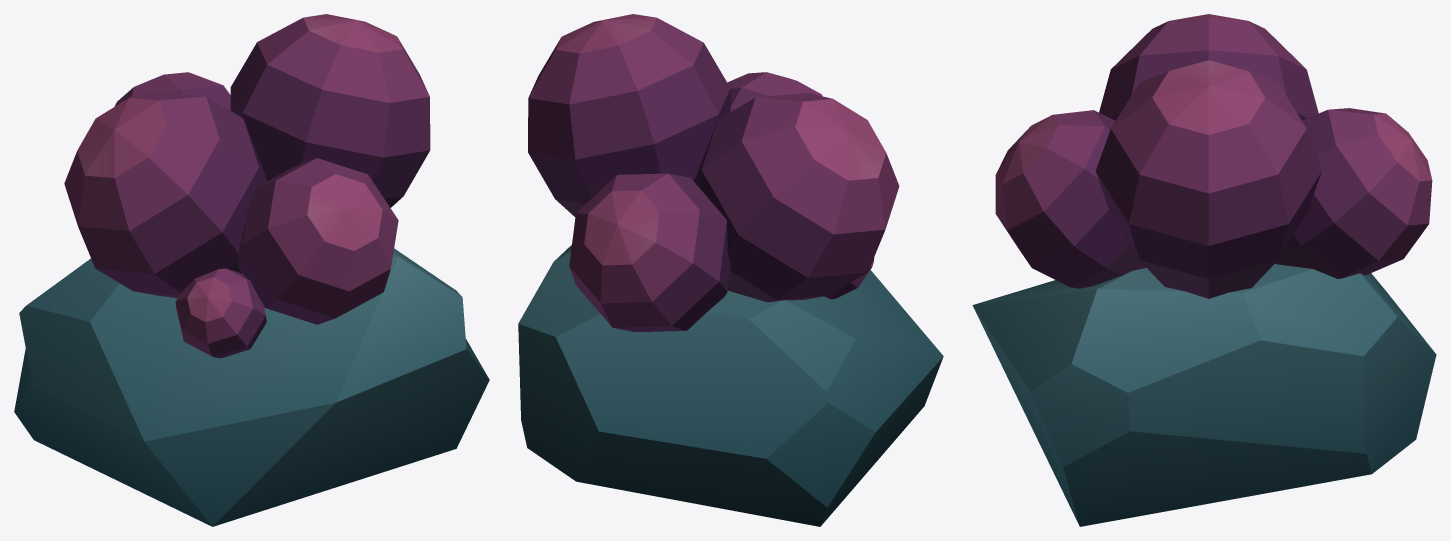
File: coral_spheres_pink_2.fbx
3 views of the same model, side by side, from view 1: azimuth 30°, elevation 25°; view 2: azimuth 150°, elevation 25°; view 3: azimuth 270°, elevation 25° (orthographic). The views are drawn at different scales.
Visible parts, largest first — view 1: coral_spheres_pink_2; view 2: coral_spheres_pink_2; view 3: coral_spheres_pink_2.
Boxes of the visible parts, x1,y1,x2,y2 form: coral_spheres_pink_2: (14,14,489,526); coral_spheres_pink_2: (518,14,943,526); coral_spheres_pink_2: (972,14,1436,526).
Bounding box in the file's own units: 0.5333 × 0.5578 × 0.5567.
